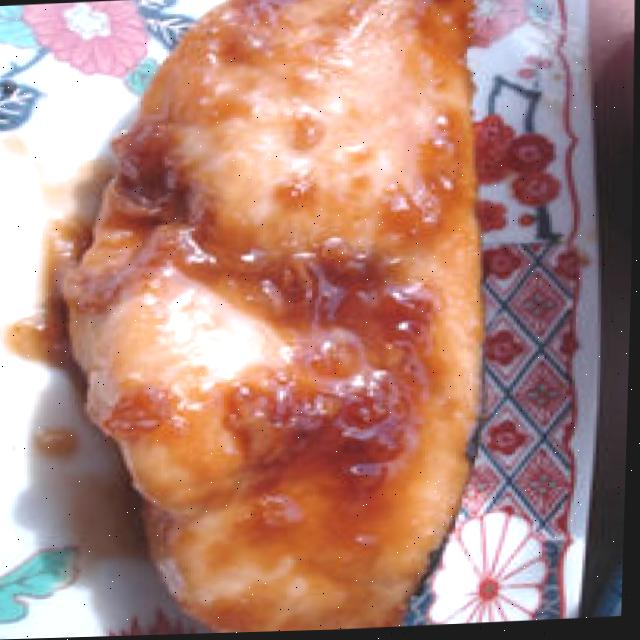熟制海鲜: (38, 0, 508, 639)
